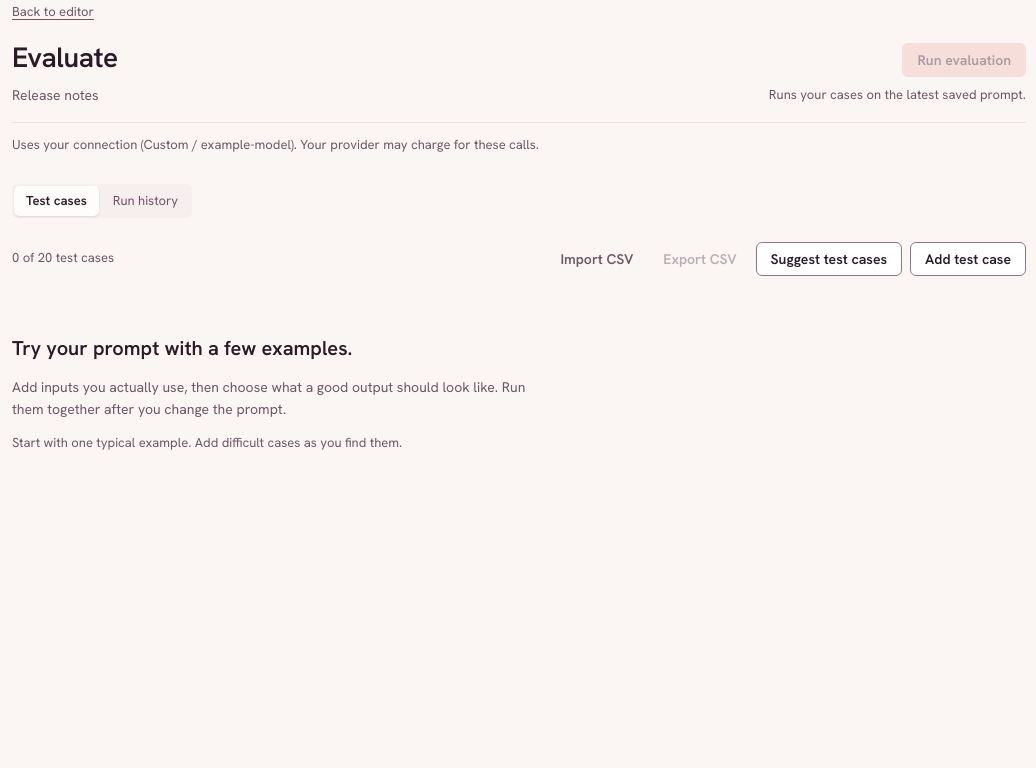
loads older evaluation pages without replacing current history
The width and height of the screenshot is (1036, 768).
expect the heading "Evaluate" is shown: met, box [12, 35, 118, 80]
Click the radio button labelled "Run history": (146, 201) [101, 186, 190, 216]
(page scrolled)
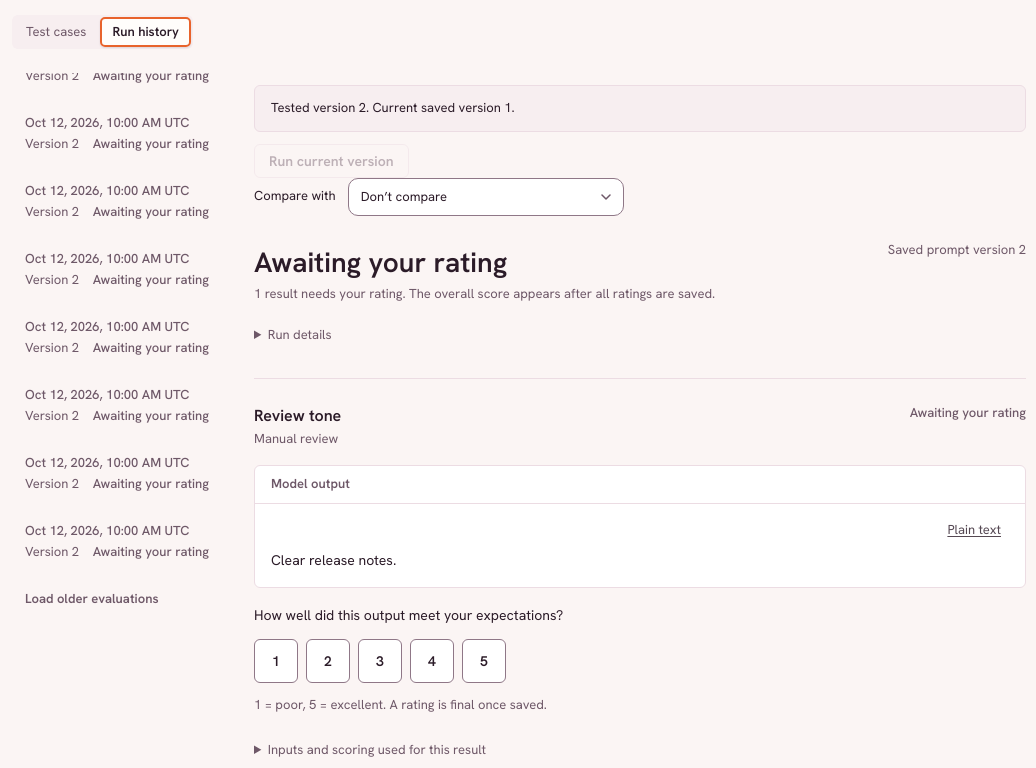
Click the button "Load older evaluations": (117, 594) [12, 577, 222, 611]
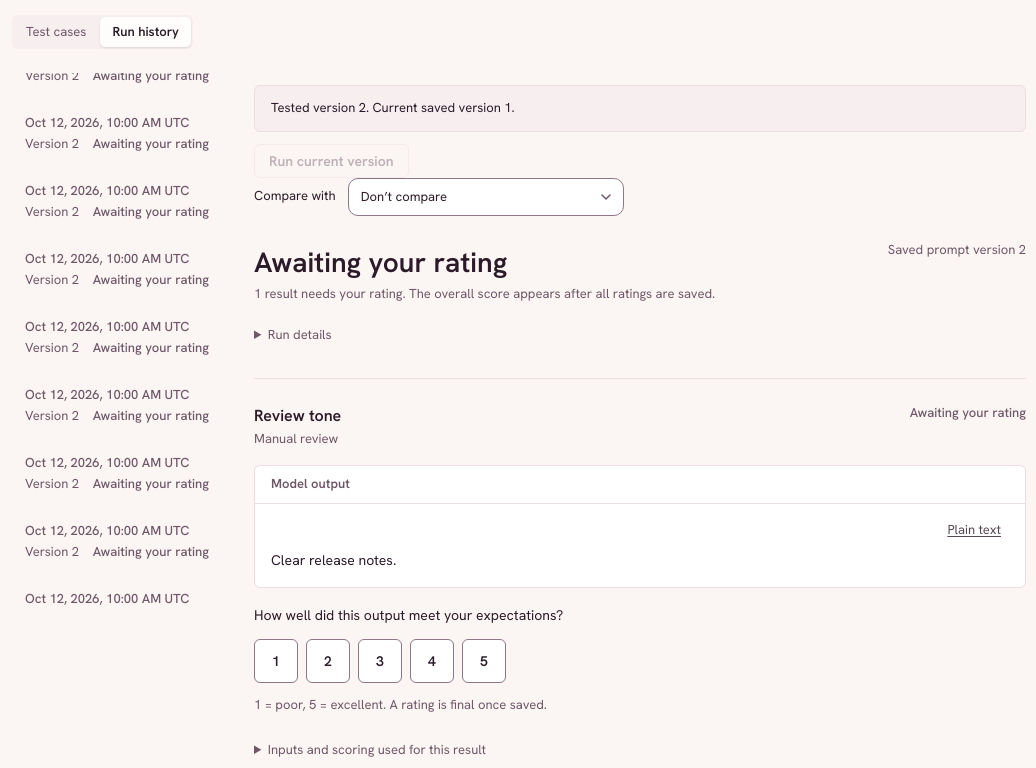
expect the button "Load older evaluations" is gone: met
